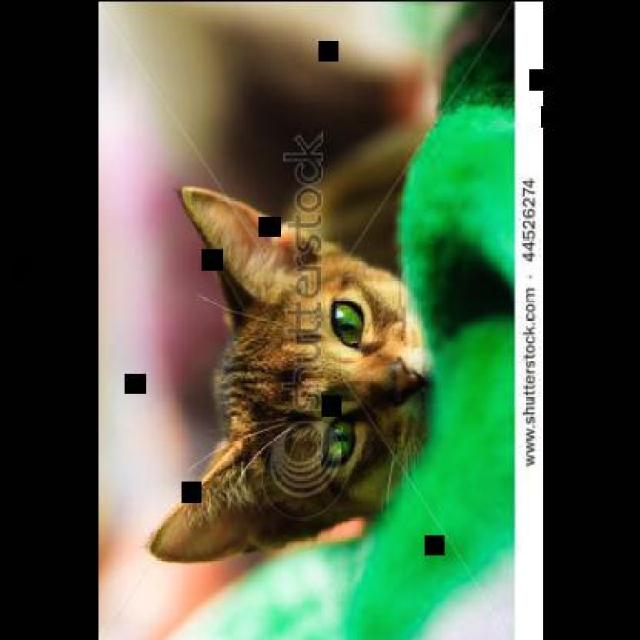unauthorized: (146, 177, 432, 565)
